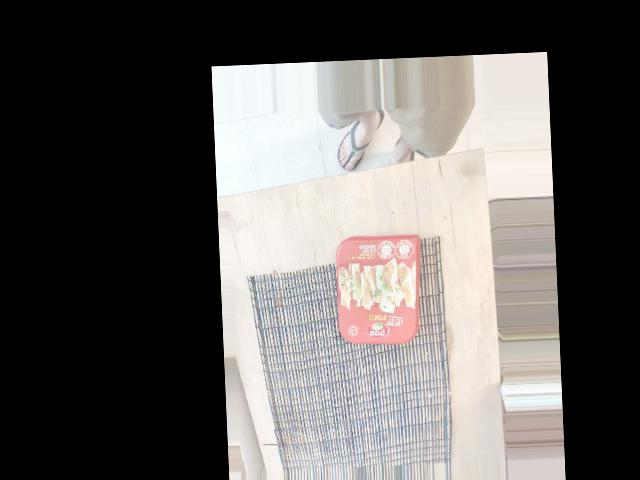cheese: (241, 272, 377, 365)
